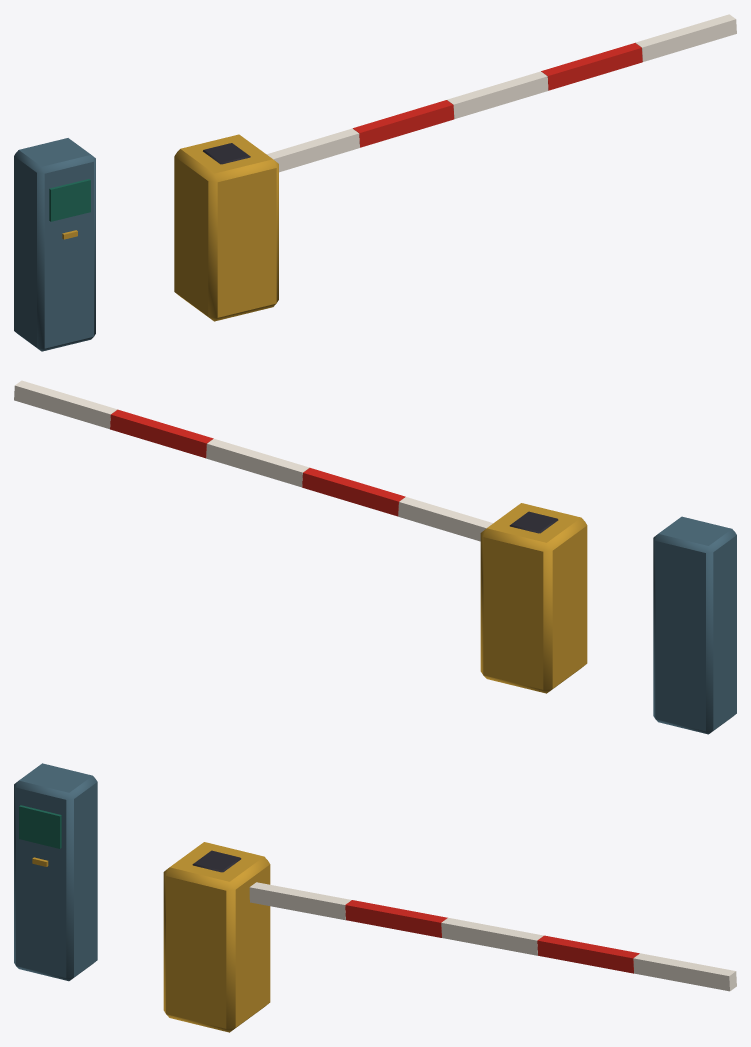
The model's file is bay_barrier.glb.
The picture shows the model from 3 angles, top to bottom: view 1: azimuth 30°, elevation 25°; view 2: azimuth 150°, elevation 25°; view 3: azimuth 330°, elevation 25°; orthographic projection.
Parts seen in each view (by area): view 1: bay_barrier; view 2: bay_barrier; view 3: bay_barrier.
Part boxes in pixels (box(x1,y1,x2,y2)): bay_barrier: box(14, 14, 736, 351); bay_barrier: box(14, 380, 736, 734); bay_barrier: box(14, 763, 736, 1032).
Bounding box in the file's own units: 5.95 × 1.5 × 0.61.
